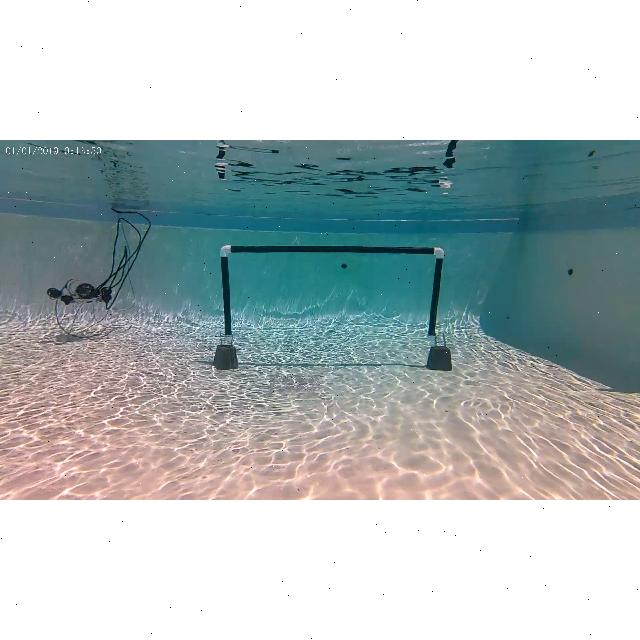prequal gate: (220, 245, 444, 341)
prequal gate leg l: (214, 240, 244, 372)
prequal gate leg r: (424, 236, 456, 380)
